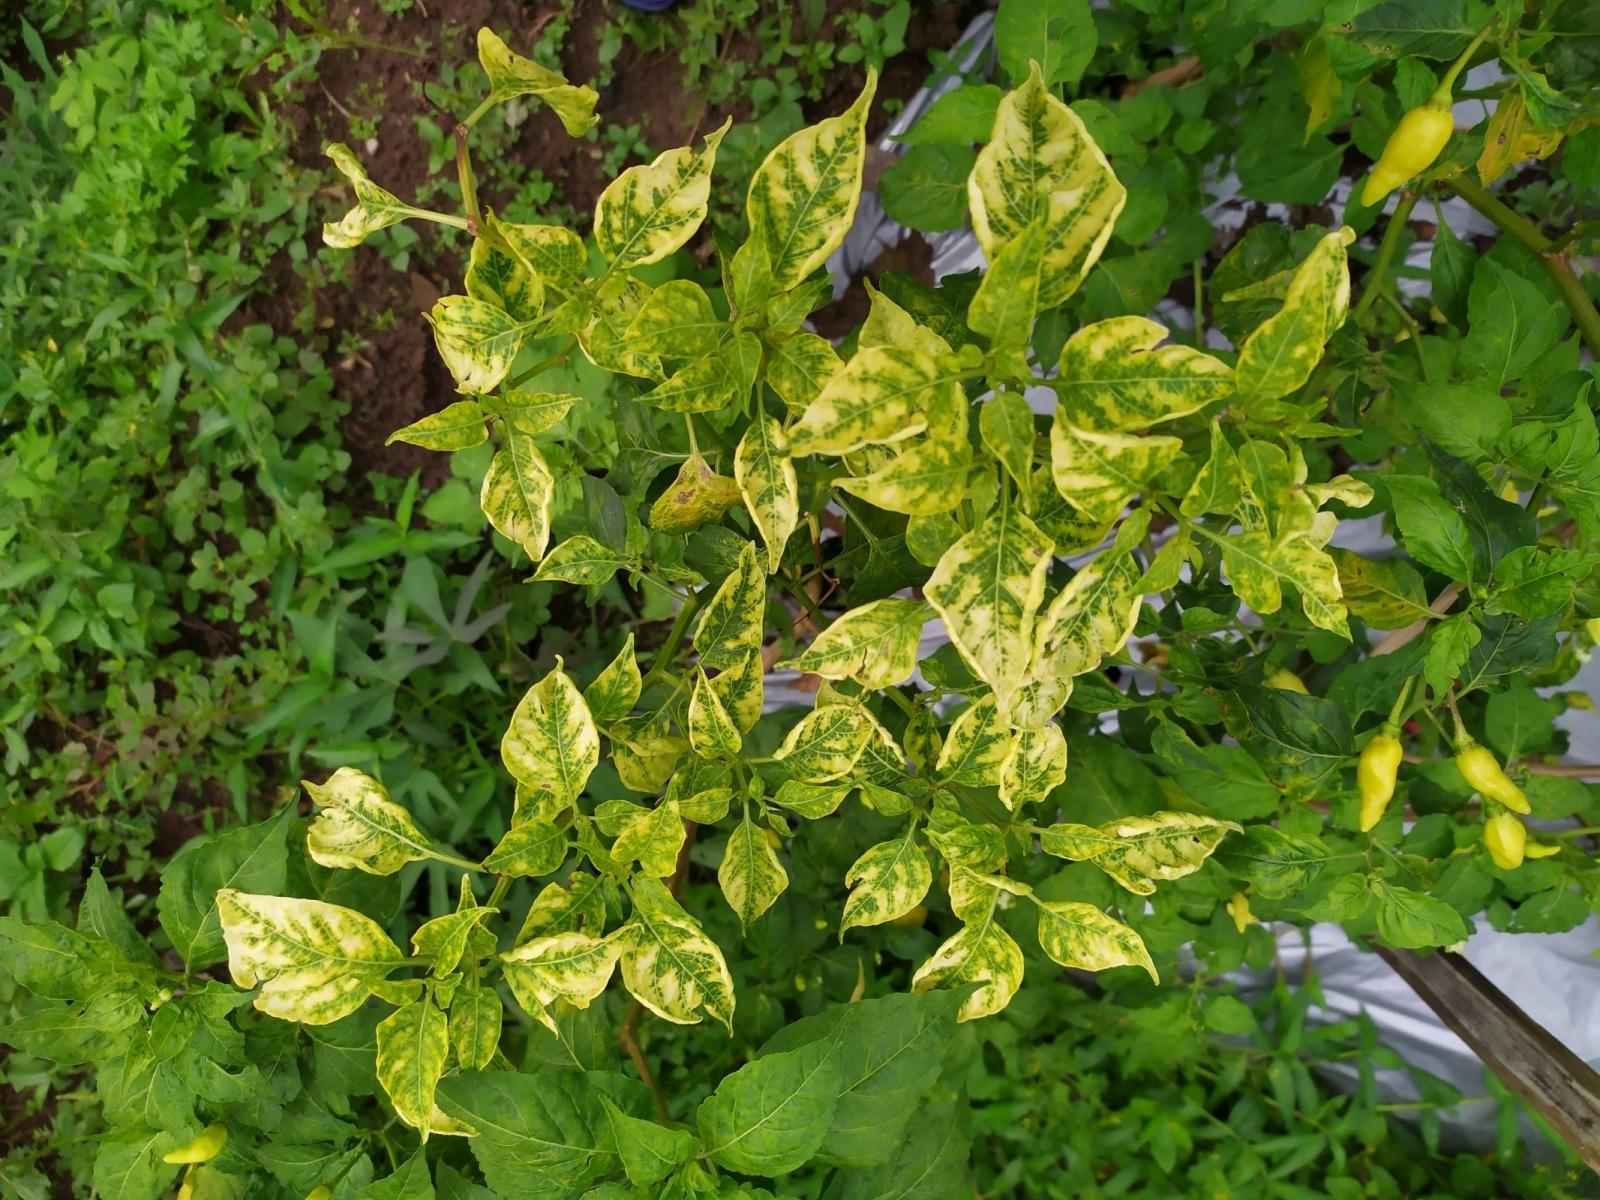cabai_normal: (1361, 101, 1454, 208), (1454, 742, 1532, 816), (1357, 734, 1403, 833), (1483, 811, 1527, 870)
